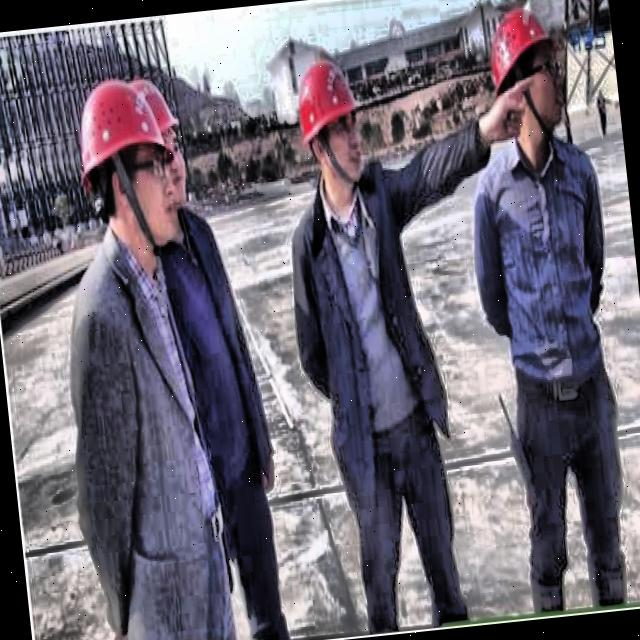helmet: (66, 63, 176, 261), (469, 0, 582, 156), (280, 44, 374, 210), (126, 72, 188, 235)
